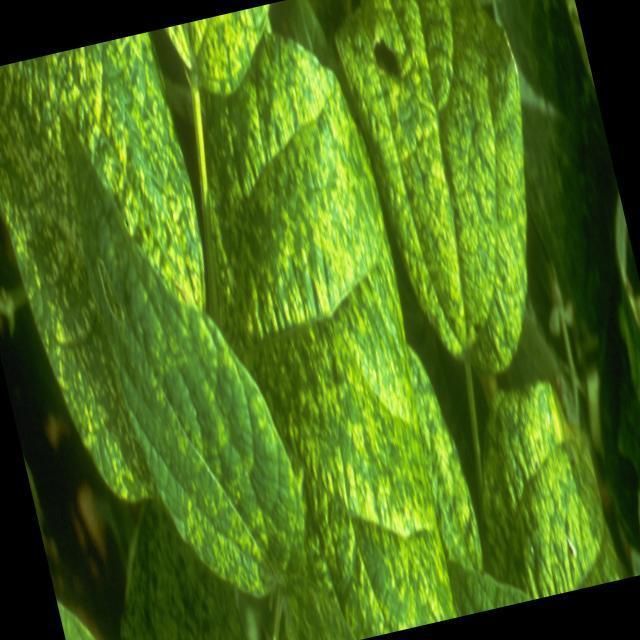Mosaic Virus: (162, 18, 468, 638), (0, 27, 265, 505), (341, 0, 580, 383), (449, 368, 624, 607)
